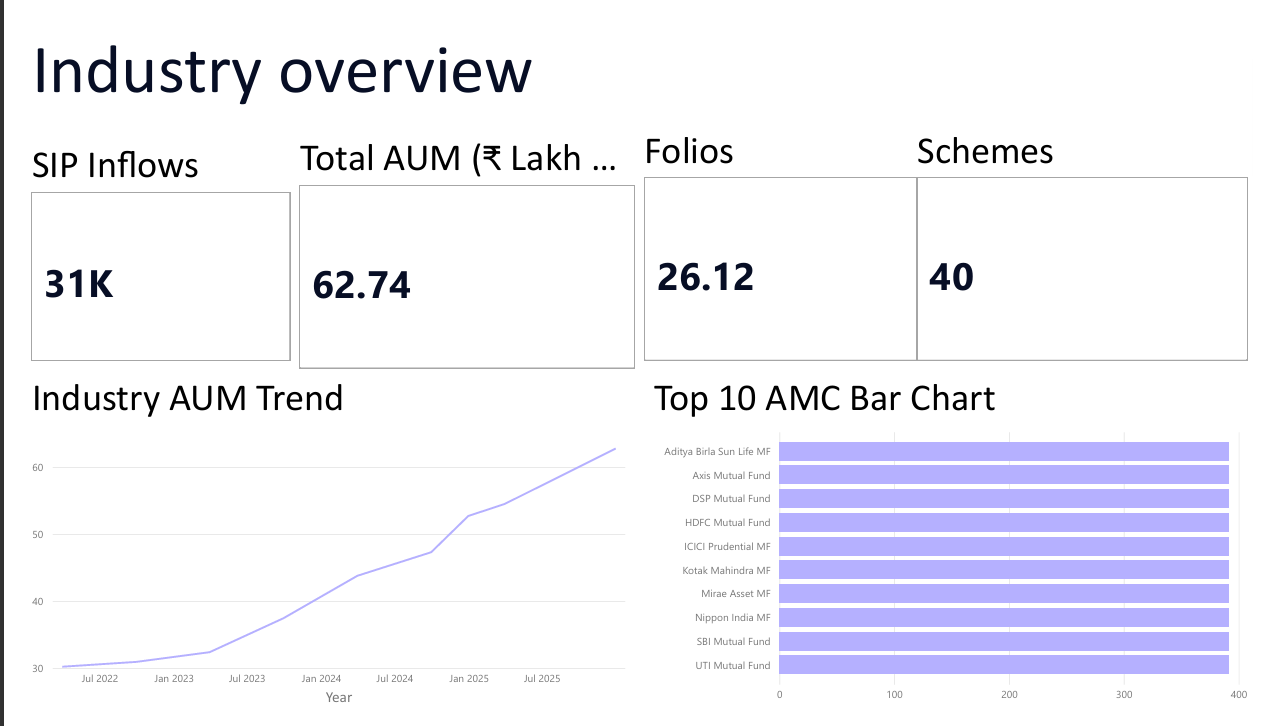

Layout of this report page (visuals, bound fields, positions):
{"tool":"powerbi","page":{"name":"Industry overview","canvas":[1280,720],"ordinal":0},"visuals":[{"type":"cardVisual","title":"Total AUM (₹ Lakh Cr)","fields":{"Data":["01_fund_master.Total AUM"]},"box":[280,117.5,360,250],"z":0},{"type":"cardVisual","title":"SIP Inflows","fields":{"Data":["Max(04_monthly_sip_inflows.sip_inflow_crore)"]},"box":[0,125,280,235],"z":1000},{"type":"cardVisual","title":"Folios","fields":{"Data":["Max(06_industry_folio_count.total_folios_crore)"]},"box":[640,110,295,250],"z":2000},{"type":"cardVisual","title":"Schemes","fields":{"Data":["Count(01_fund_master.amfi_code)"]},"box":[925,110,355,250],"z":3000},{"type":"lineChart","title":"Industry AUM Trend","fields":{"Y":["Sum(03_aum_by_fund_house.aum_lakh_crore)"],"Category":["03_aum_by_fund_house.date.Variation.Date Hierarchy.Year","03_aum_by_fund_house.date.Variation.Date Hierarchy.Quarter","03_aum_by_fund_house.date.Variation.Date Hierarchy.Month","03_aum_by_fund_house.date.Variation.Date Hierarchy.Day"]},"box":[0,367.5,640,352.5],"z":4000},{"type":"clusteredBarChart","title":"Top 10 AMC Bar Chart","fields":{"Category":["01_fund_master.fund_house"],"Y":["Sum(03_aum_by_fund_house.aum_lakh_crore)"]},"box":[650,367.5,630,352.5],"z":5000},{"type":"textbox","box":[0,0,587.5,110],"z":6000}]}

Visuals, with their boxes in screenshot pixels (x1, y1, x2, y2), scaled from the page's 1280x720 canvas onto the 1269x726 screenshot:
"Total AUM (₹ Lakh Cr)" cardVisual: pyautogui.locateOnScreen(278, 118, 634, 371)
"SIP Inflows" cardVisual: pyautogui.locateOnScreen(0, 126, 278, 363)
"Folios" cardVisual: pyautogui.locateOnScreen(634, 111, 927, 363)
"Schemes" cardVisual: pyautogui.locateOnScreen(917, 111, 1268, 363)
"Industry AUM Trend" lineChart: pyautogui.locateOnScreen(0, 371, 634, 725)
"Top 10 AMC Bar Chart" clusteredBarChart: pyautogui.locateOnScreen(644, 371, 1268, 725)
textbox: pyautogui.locateOnScreen(0, 0, 582, 111)
